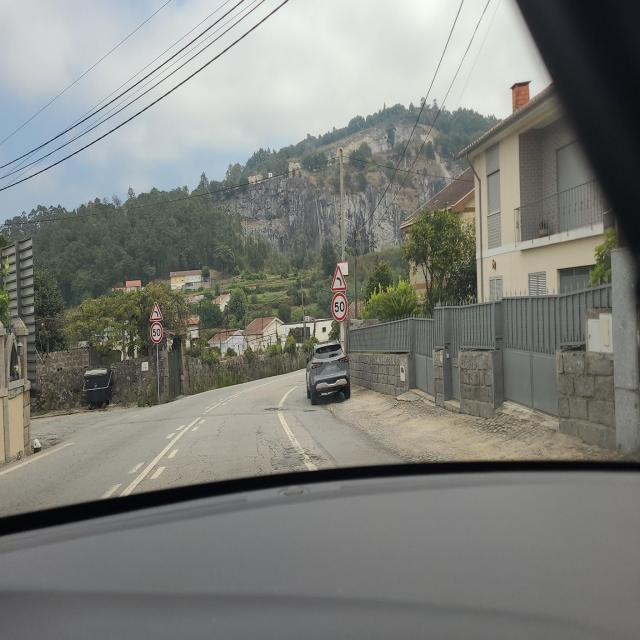car: (306, 339, 351, 404), (80, 364, 114, 410)
